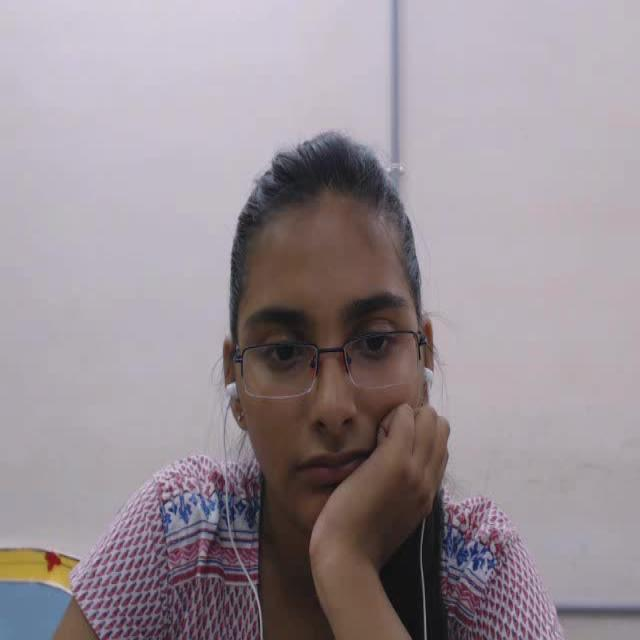Bored: (199, 116, 452, 553)
